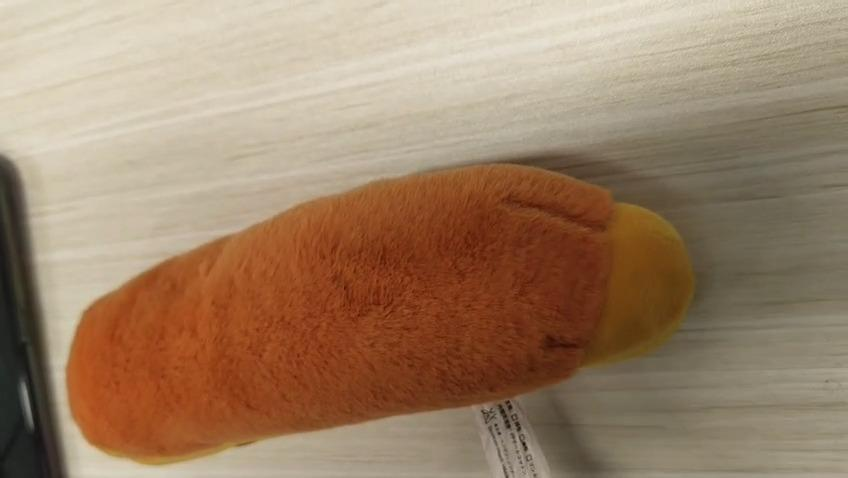hotdog: (65, 160, 694, 465)
